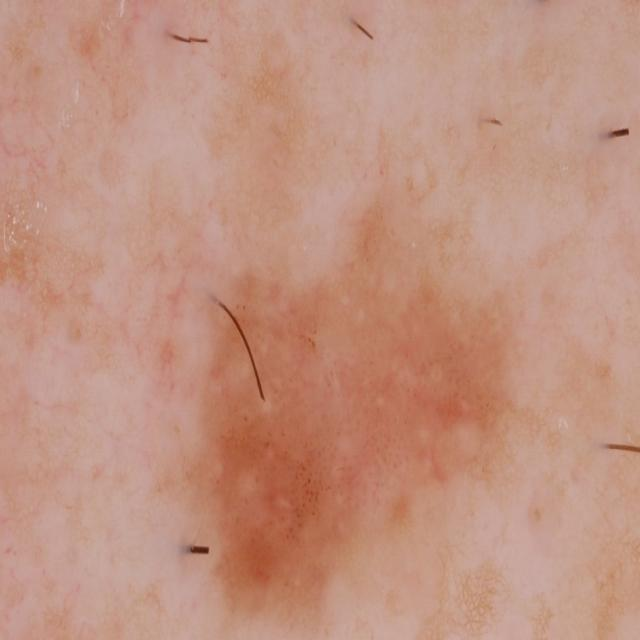Melanoma: (165, 213, 550, 631)
